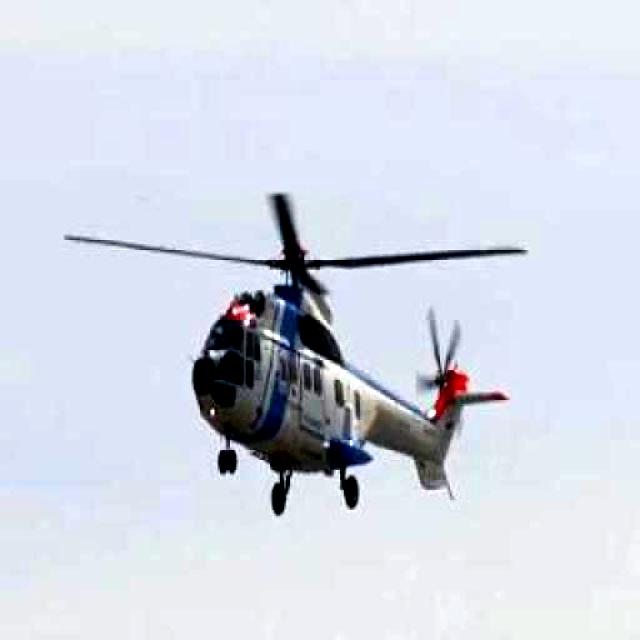drone: (52, 158, 534, 536)
